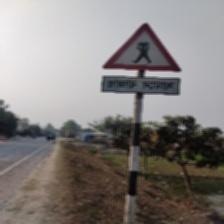Market-in-front: (101, 22, 183, 96)
